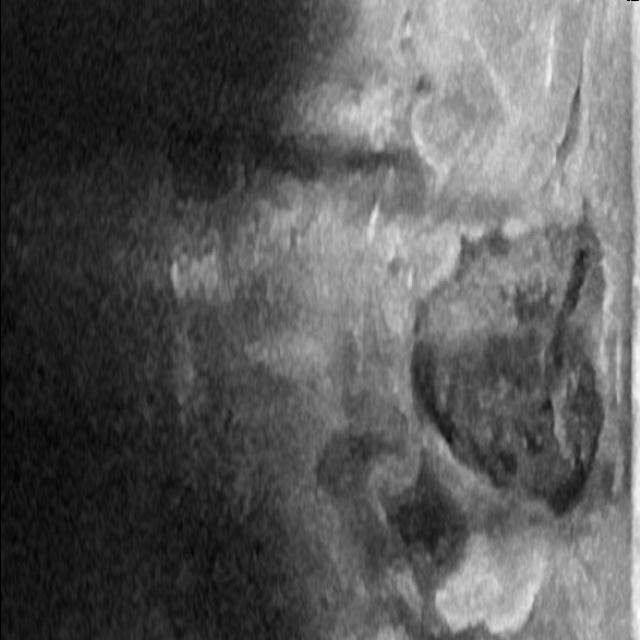Benign: (412, 242, 608, 492)
